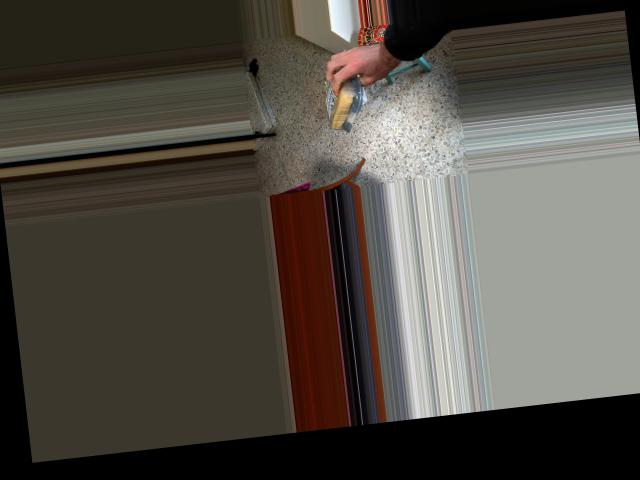cheese: (321, 65, 361, 135)
